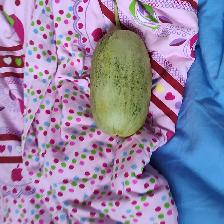gua: (101, 26, 141, 129)
